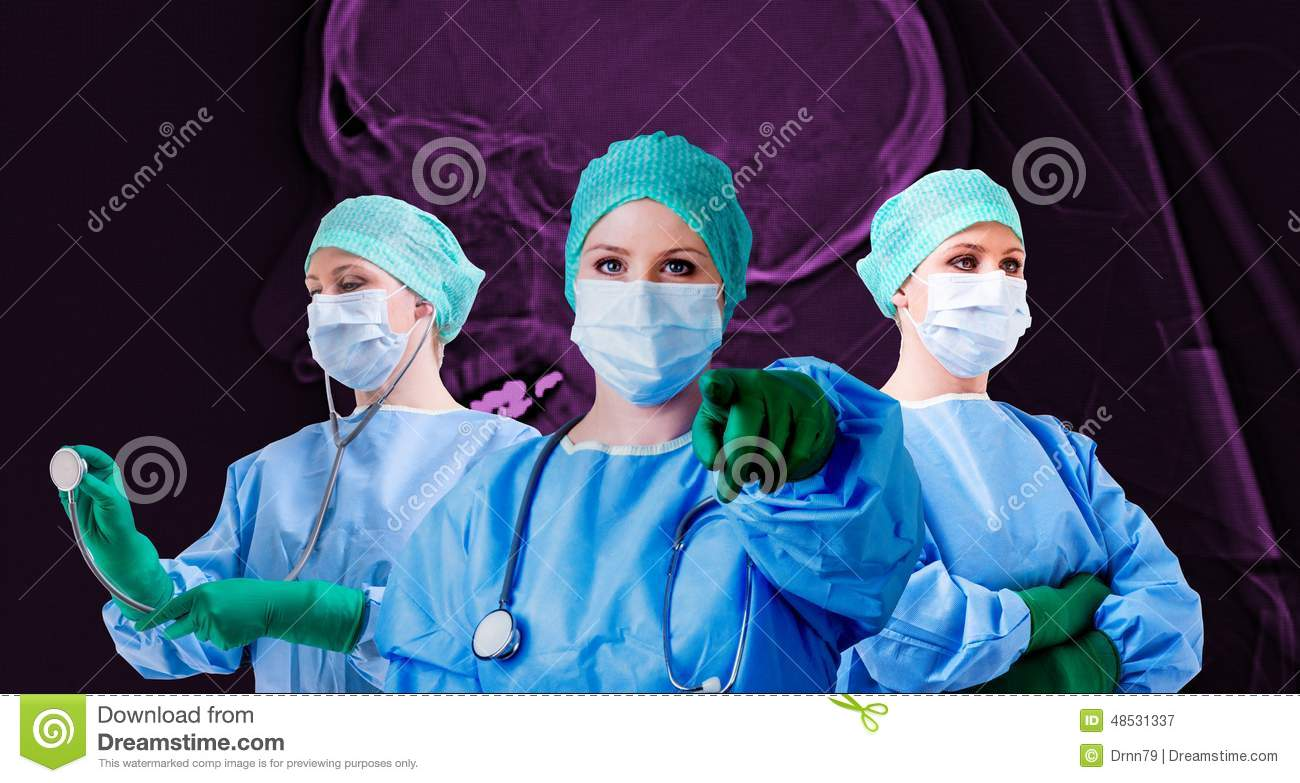mask: (564, 282, 736, 398), (916, 270, 1054, 372), (291, 279, 404, 401)
